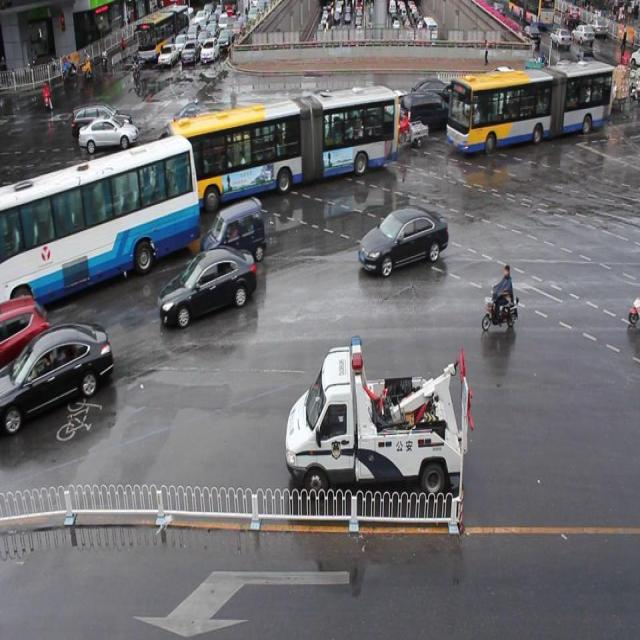bus: (286, 333, 474, 494)
car: (1, 326, 114, 428), (160, 251, 255, 324), (358, 208, 446, 270), (1, 292, 52, 378), (201, 200, 264, 261), (184, 110, 241, 160), (80, 116, 136, 158), (399, 90, 454, 132), (72, 105, 131, 140), (198, 123, 238, 171), (453, 89, 505, 124), (309, 106, 351, 148), (172, 103, 220, 138), (364, 86, 410, 121), (407, 76, 459, 105), (303, 97, 347, 129), (309, 88, 349, 122), (482, 76, 521, 110), (482, 66, 520, 92)
van: (0, 145, 198, 311), (169, 91, 397, 205), (450, 62, 611, 149)
